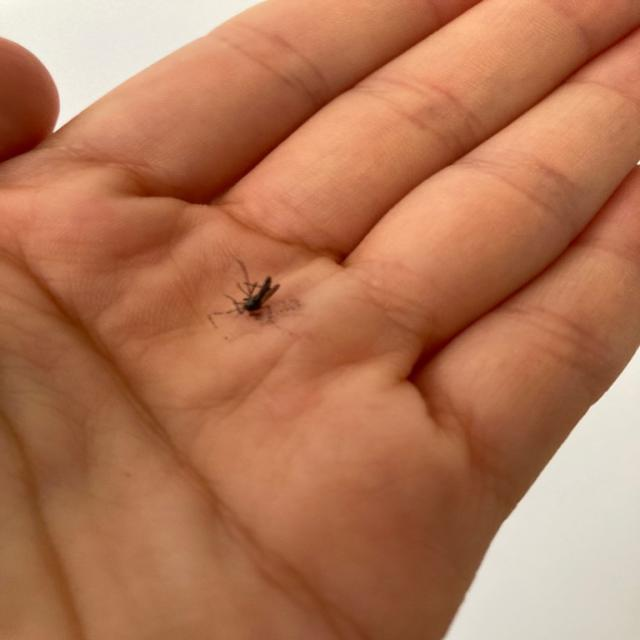albopictus: (200, 256, 292, 334)
